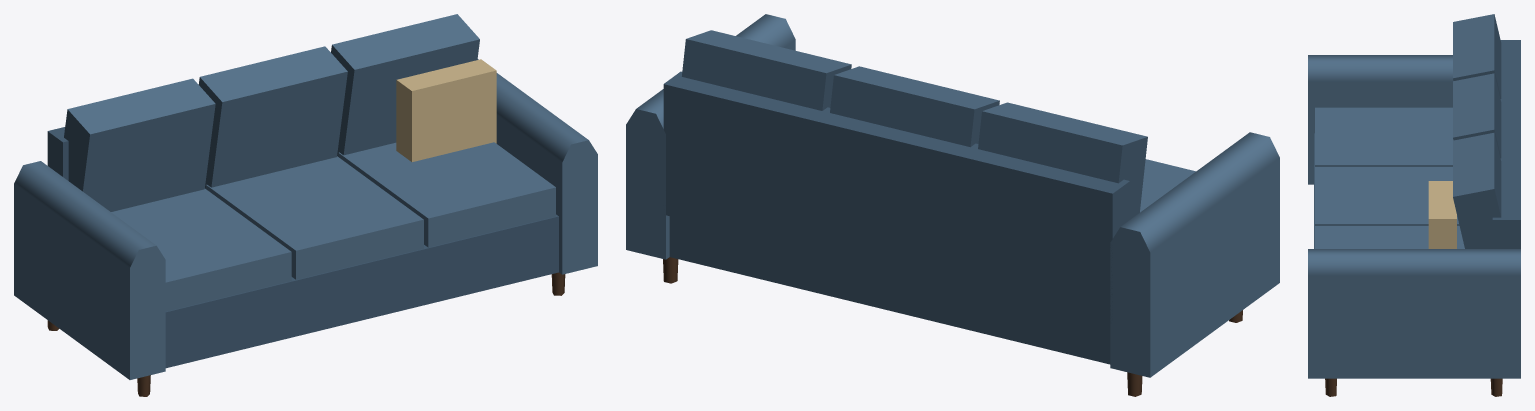
The model's file is sofa.glb.
3 renders of one model, left to right at view 1: azimuth 30°, elevation 25°; view 2: azimuth 150°, elevation 25°; view 3: azimuth 270°, elevation 25°, orthographic. The views are drawn at different scales.
Parts seen in each view (by area): view 1: Sofa; view 2: Sofa; view 3: Sofa.
Boxes of the visible parts, <box> form: Sofa: <box>14,14,597,396</box>; Sofa: <box>626,14,1279,396</box>; Sofa: <box>1308,14,1520,396</box>.
Size of the model in its own units: 2.1 by 0.9335 by 0.9.
Materials: 1 (1 with a texture image).
